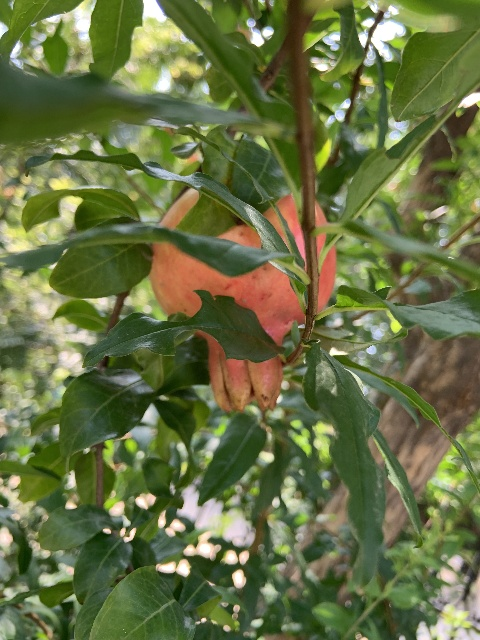ripe: (149, 184, 335, 415)
